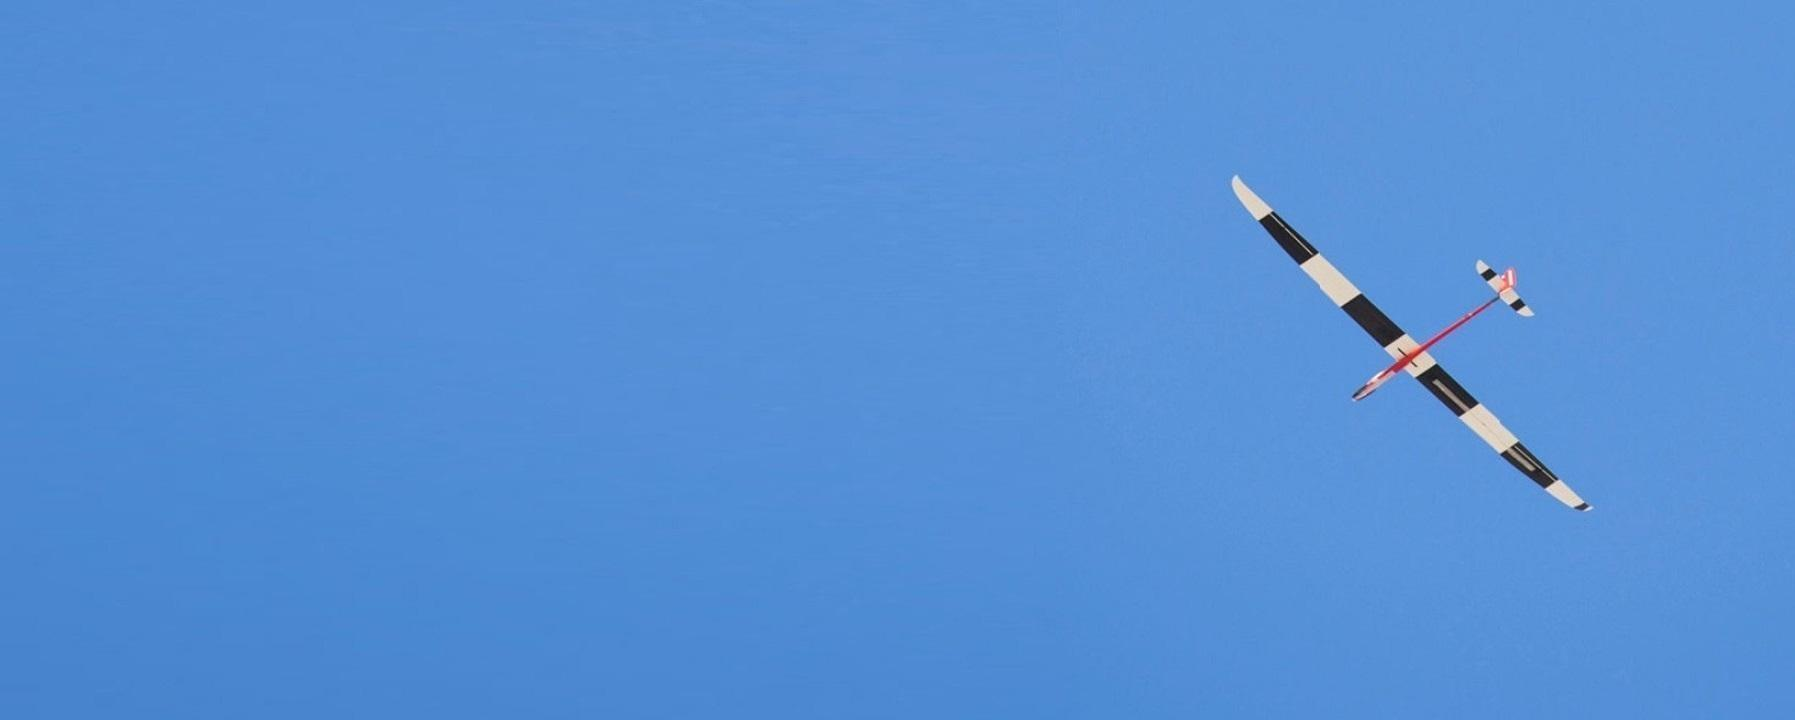Airplane: (1217, 152, 1606, 530)
